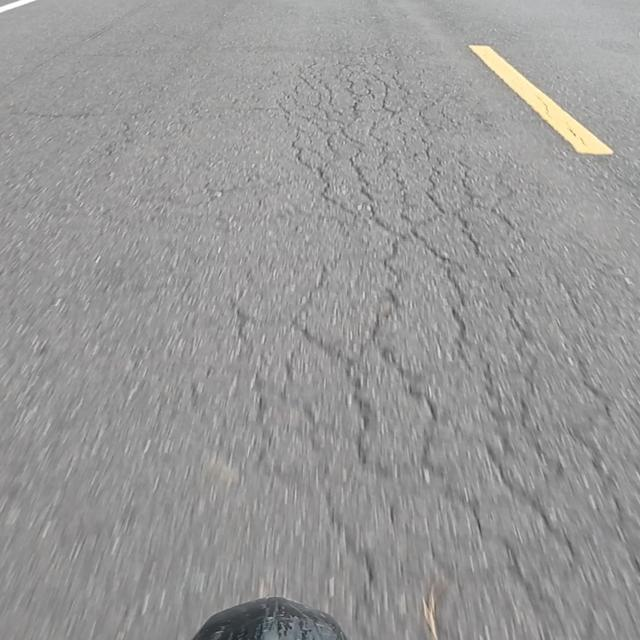Retak Buaya: (308, 32, 640, 640)
